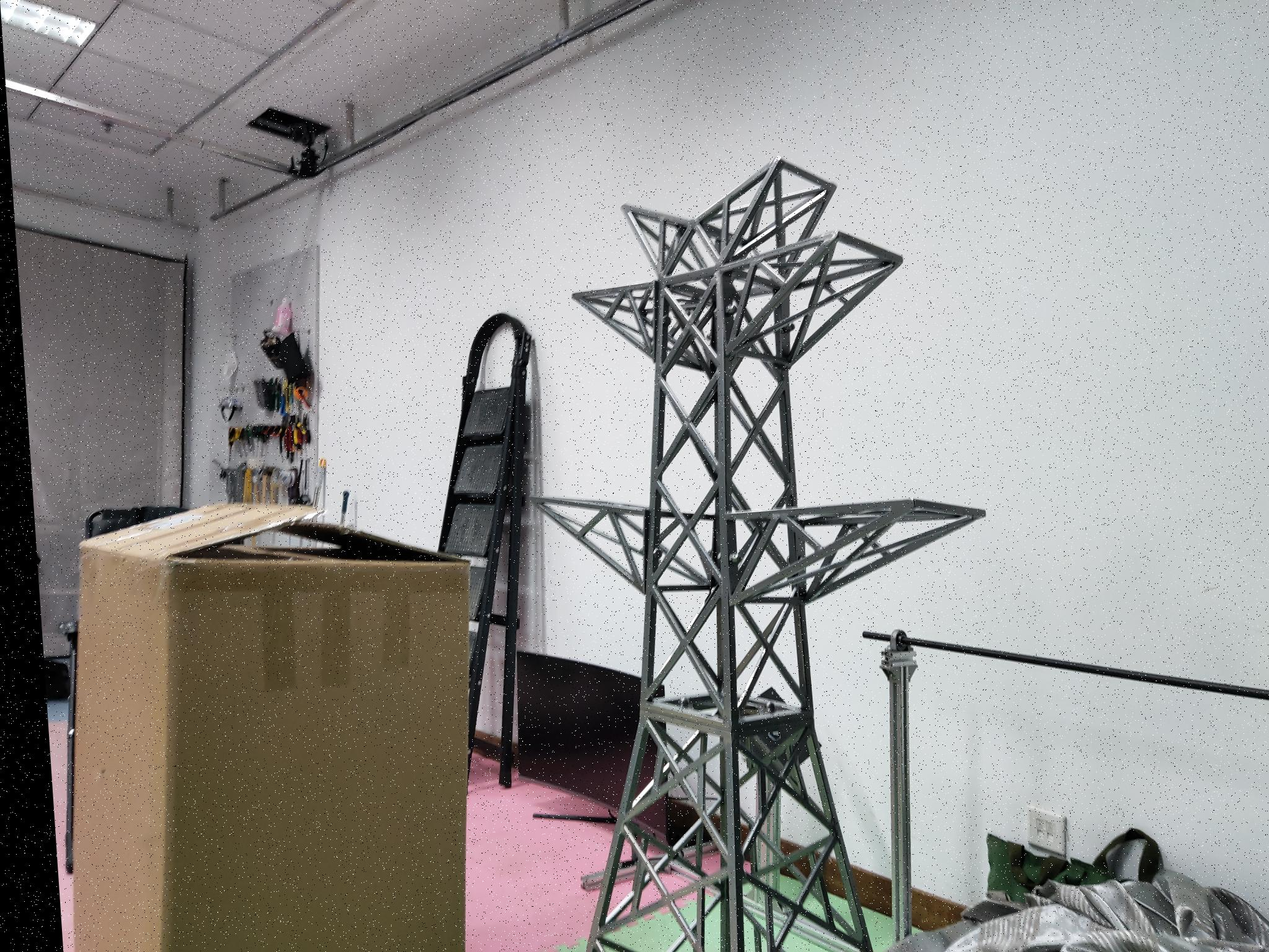tower: (502, 152, 1010, 952)
